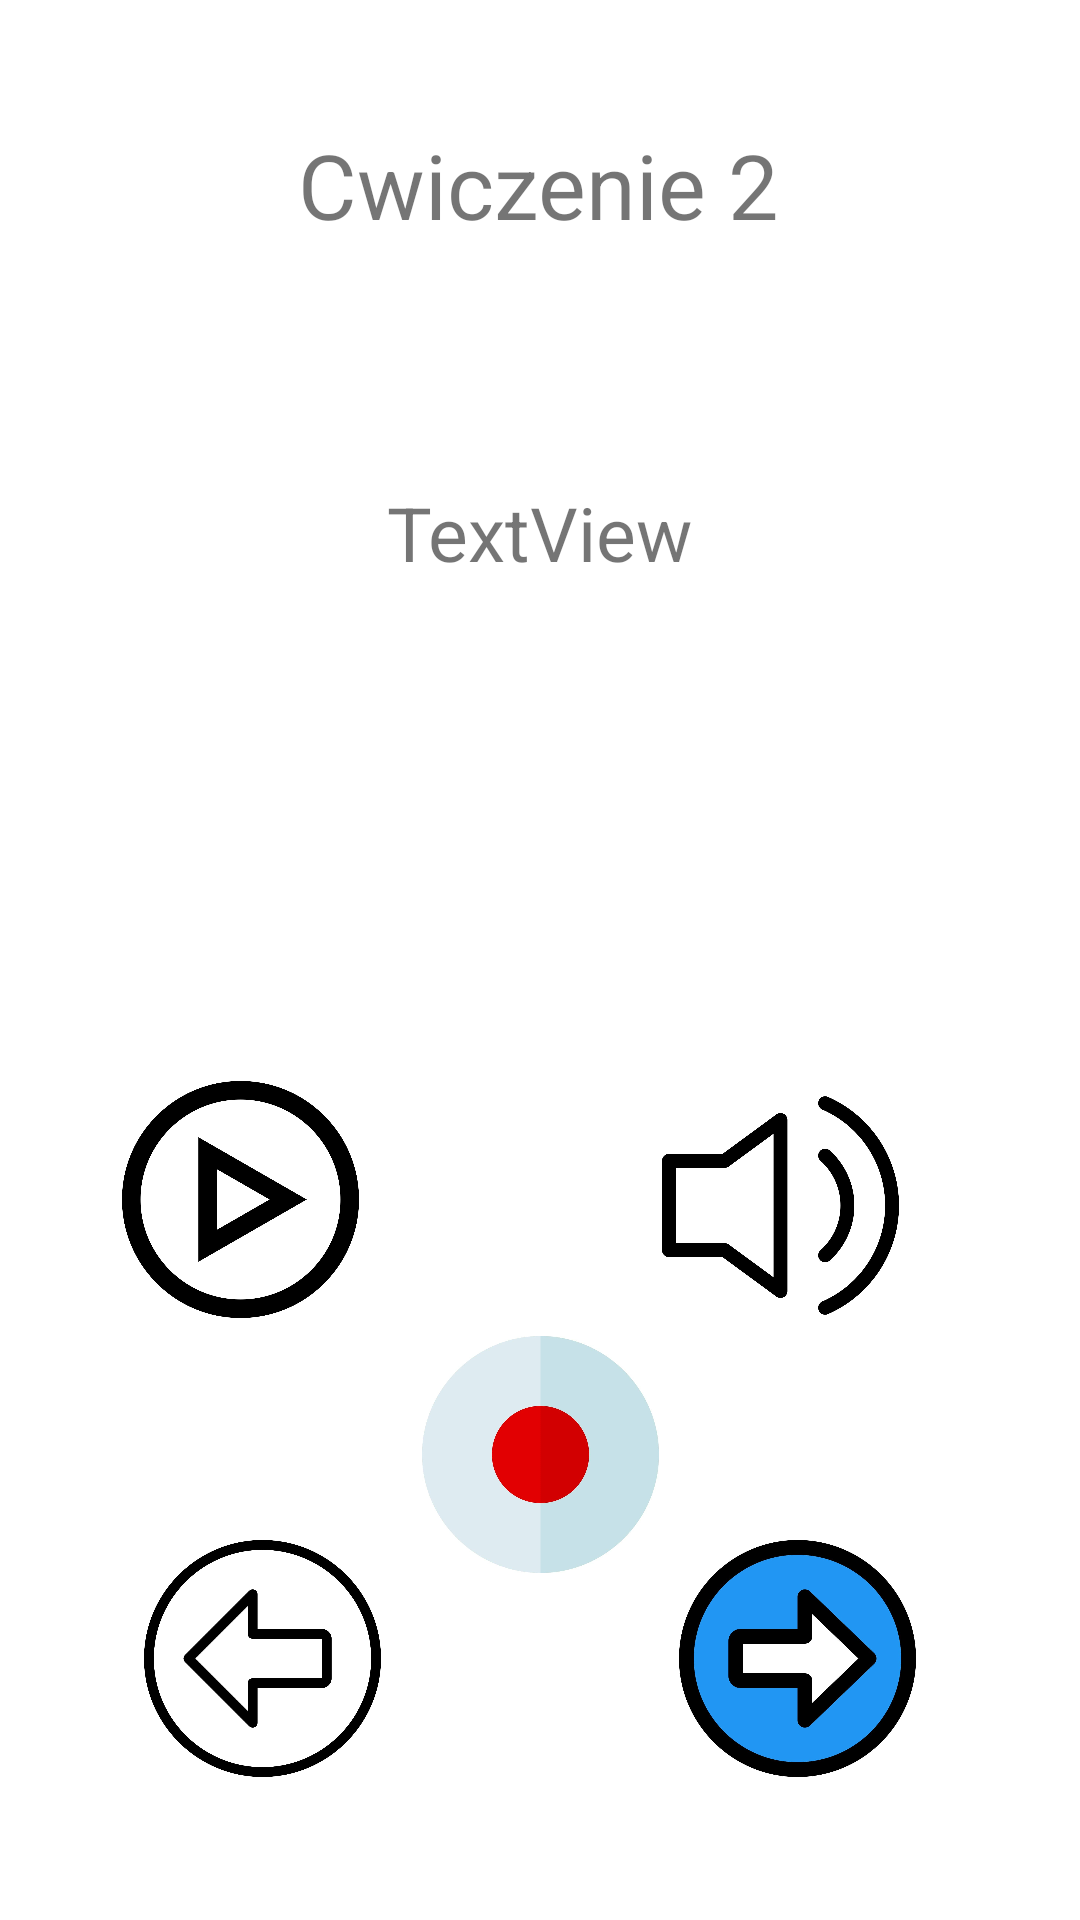

Icons on this 1080 x 1920 Android screen, each with the point to tap as (x=x, y=y):
next: (x=797, y=1658)
play: (x=240, y=1199)
previous: (x=262, y=1658)
record: (x=540, y=1454)
speaker: (x=780, y=1205)
